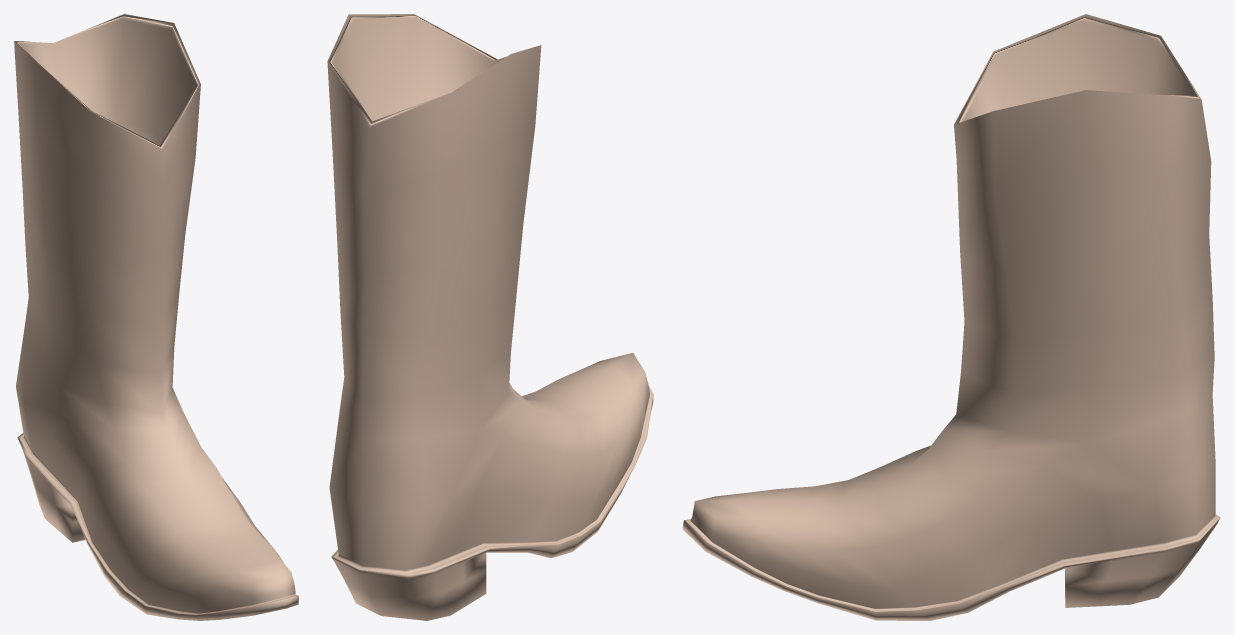
The model's file is boots1.fbx.
The picture shows the model from 3 angles, left to right: view 1: azimuth 30°, elevation 25°; view 2: azimuth 150°, elevation 25°; view 3: azimuth 270°, elevation 25°; orthographic projection. The views are drawn at different scales.
Visible parts, largest first — view 1: CowboyBoot:CowboyBoot; view 2: CowboyBoot:CowboyBoot; view 3: CowboyBoot:CowboyBoot.
Part boxes in pixels (x1,y1,x2,y2): CowboyBoot:CowboyBoot: (14,14,298,620); CowboyBoot:CowboyBoot: (327,14,653,620); CowboyBoot:CowboyBoot: (682,14,1220,620).
Bounding box in the file's own units: 11.99 × 39.75 × 35.85.
